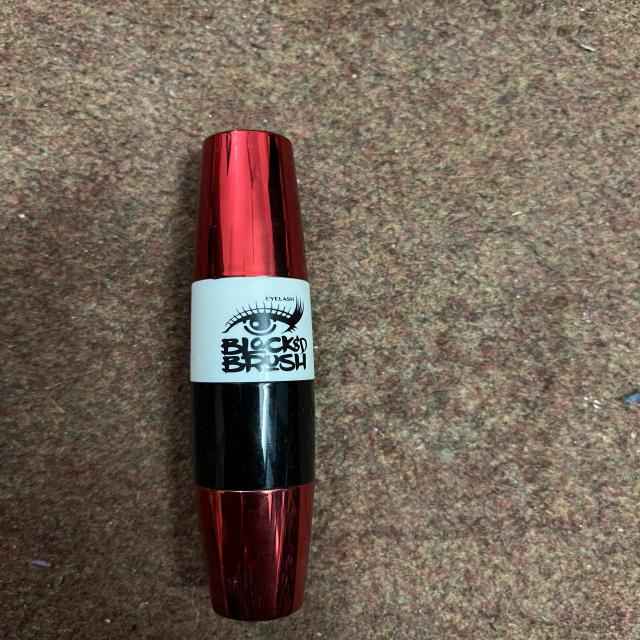mascara: (187, 111, 325, 618)
